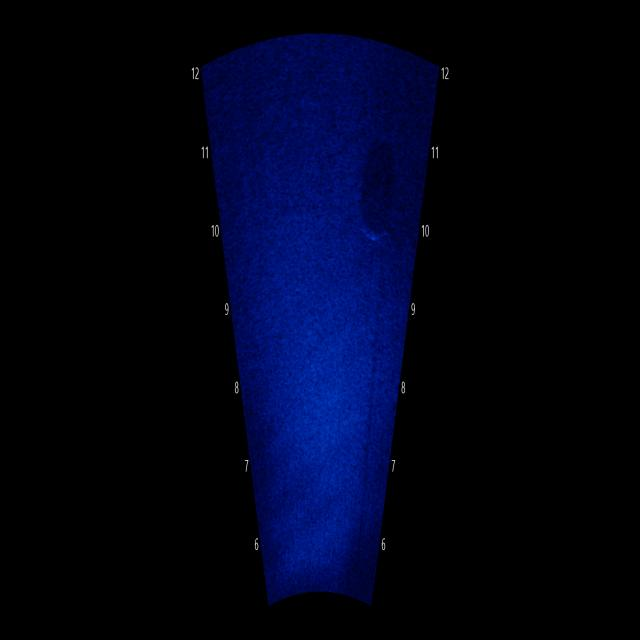circle: (354, 173, 398, 248)
